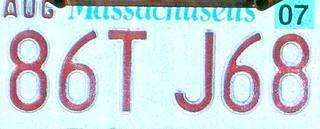placa de veiculo: (5, 0, 314, 123)
